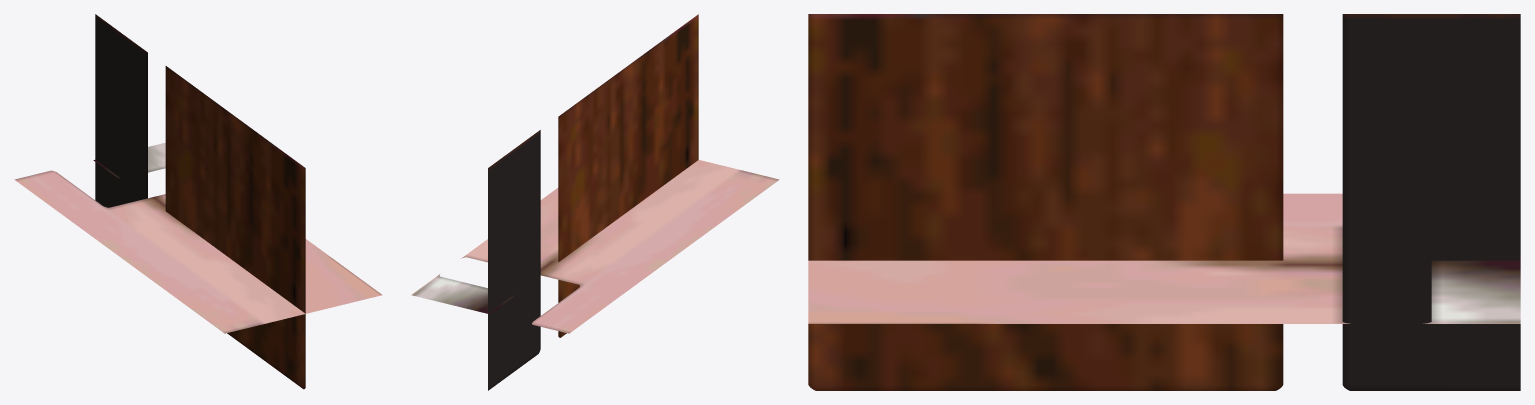
The picture shows the model from 3 angles, left to right: view 1: azimuth 30°, elevation 25°; view 2: azimuth 150°, elevation 25°; view 3: azimuth 270°, elevation 25°; orthographic projection. The views are drawn at different scales.
Visible parts, largest first — view 1: T1L2M009_14; view 2: T1L2M009_14; view 3: T1L2M009_14.
Boxes of the visible parts, x1=… form: T1L2M009_14: x1=14, y1=14, x2=382, y2=389; T1L2M009_14: x1=411, y1=14, x2=779, y2=390; T1L2M009_14: x1=808, y1=14, x2=1520, y2=390.
Bounding box in the file's own units: 0.8154 × 1.1 × 1.88.
